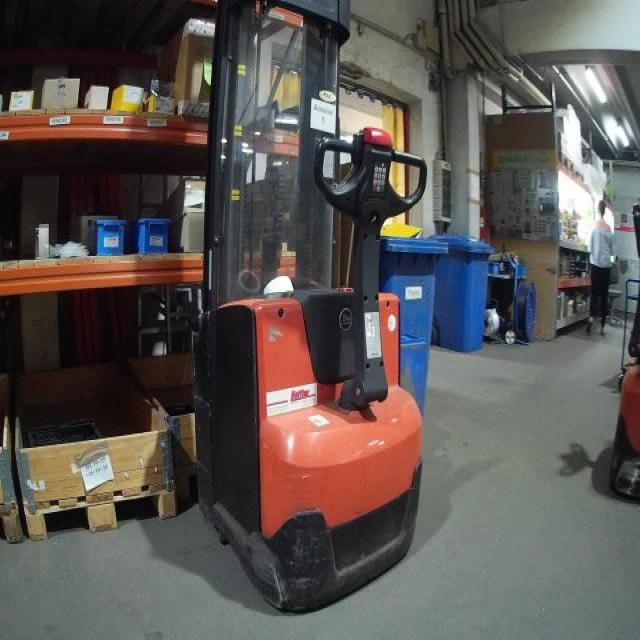pallet: (28, 470, 181, 544), (2, 498, 24, 549), (557, 150, 577, 179)
pallet_truck: (167, 2, 432, 626), (602, 200, 640, 498)
small_load_carrier: (133, 218, 168, 251), (92, 219, 123, 252)
